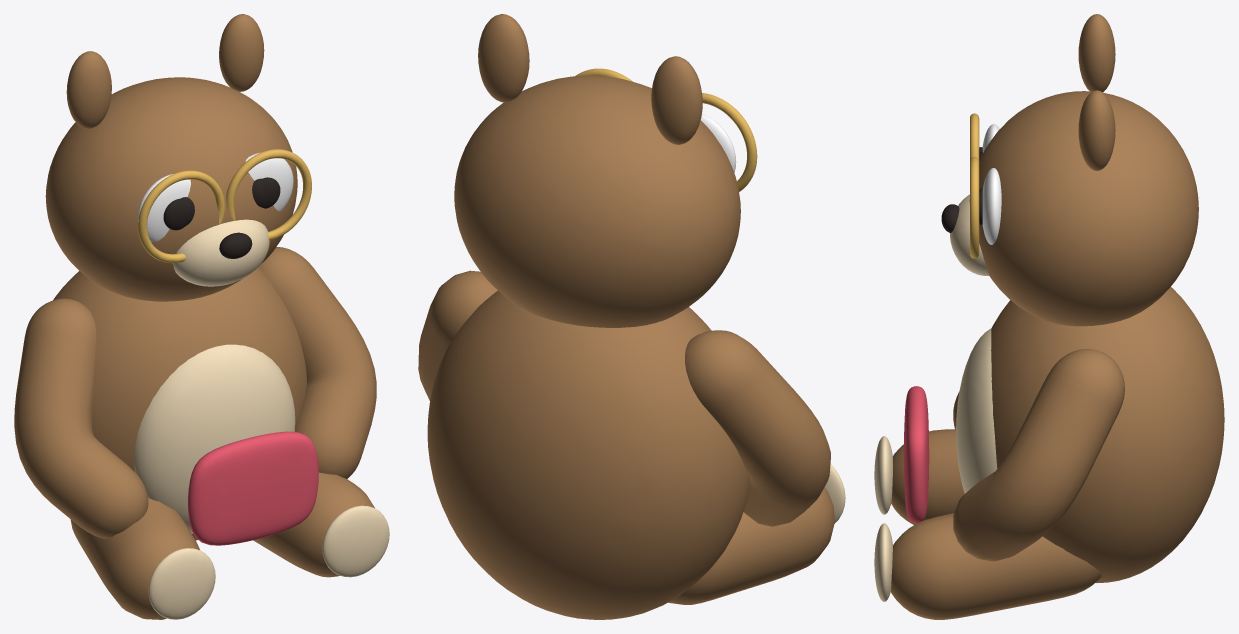
File: deco_buho.glb
The picture shows the model from 3 angles, left to right: view 1: azimuth 30°, elevation 25°; view 2: azimuth 150°, elevation 25°; view 3: azimuth 270°, elevation 25°; orthographic projection. The views are drawn at different scales.
Parts seen in each view (by area): view 1: cabeza búho.001, panza búho.001, brazo.032, barriga búho.001, brazo.033, librito.001, pierna.032, pierna.033, hocico.016, planta pata.033, planta pata.032, penacho -1.001 (+7 smaller); view 2: panza búho.001, cabeza búho.001, brazo.032, pierna.032, brazo.033, penacho 1.001, penacho -1.001, gafas -1.001, planta pata.032, ojo grande buho -1.001; view 3: cabeza búho.001, panza búho.001, brazo.033, pierna.033, barriga búho.001, pierna.032, librito.001, penacho 1.001, penacho -1.001, hocico.016, ojo grande buho 1.001, planta pata.032 (+2 smaller).
Boxes of the visible parts, bbox=[...] form: cabeza búho.001: bbox=[45, 77, 297, 301]; panza búho.001: bbox=[53, 267, 306, 540]; brazo.032: bbox=[14, 298, 148, 538]; barriga búho.001: bbox=[134, 344, 295, 533]; brazo.033: bbox=[258, 247, 376, 478]; librito.001: bbox=[188, 431, 318, 545]; pierna.032: bbox=[70, 498, 199, 619]; pierna.033: bbox=[253, 472, 374, 577]; hocico.016: bbox=[173, 219, 269, 286]; planta pata.033: bbox=[322, 505, 389, 577]; planta pata.032: bbox=[148, 548, 215, 619]; penacho -1.001: bbox=[66, 51, 111, 128]; panza búho.001: bbox=[427, 291, 749, 619]; cabeza búho.001: bbox=[454, 75, 740, 327]; brazo.032: bbox=[685, 330, 830, 526]; pierna.032: bbox=[668, 487, 834, 604]; brazo.033: bbox=[418, 270, 497, 400]; penacho 1.001: bbox=[478, 14, 529, 102]; penacho -1.001: bbox=[651, 56, 702, 144]; gafas -1.001: bbox=[702, 93, 757, 191]; planta pata.032: bbox=[825, 464, 845, 523]; ojo grande buho -1.001: bbox=[700, 114, 736, 172]; cabeza búho.001: bbox=[969, 91, 1198, 326]; panza búho.001: bbox=[991, 287, 1224, 582]; brazo.033: bbox=[953, 349, 1124, 561]; pierna.033: bbox=[891, 513, 1101, 619]; barriga búho.001: bbox=[956, 328, 997, 493]; pierna.032: bbox=[891, 429, 964, 524]; librito.001: bbox=[903, 386, 929, 523]; penacho 1.001: bbox=[1078, 90, 1115, 170]; penacho -1.001: bbox=[1078, 14, 1115, 92]; hocico.016: bbox=[949, 194, 989, 275]; ojo grande buho 1.001: bbox=[982, 168, 1001, 244]; planta pata.032: bbox=[874, 436, 892, 514].
Size of the model in its own units: 0.3188 by 0.4435 by 0.2716.
